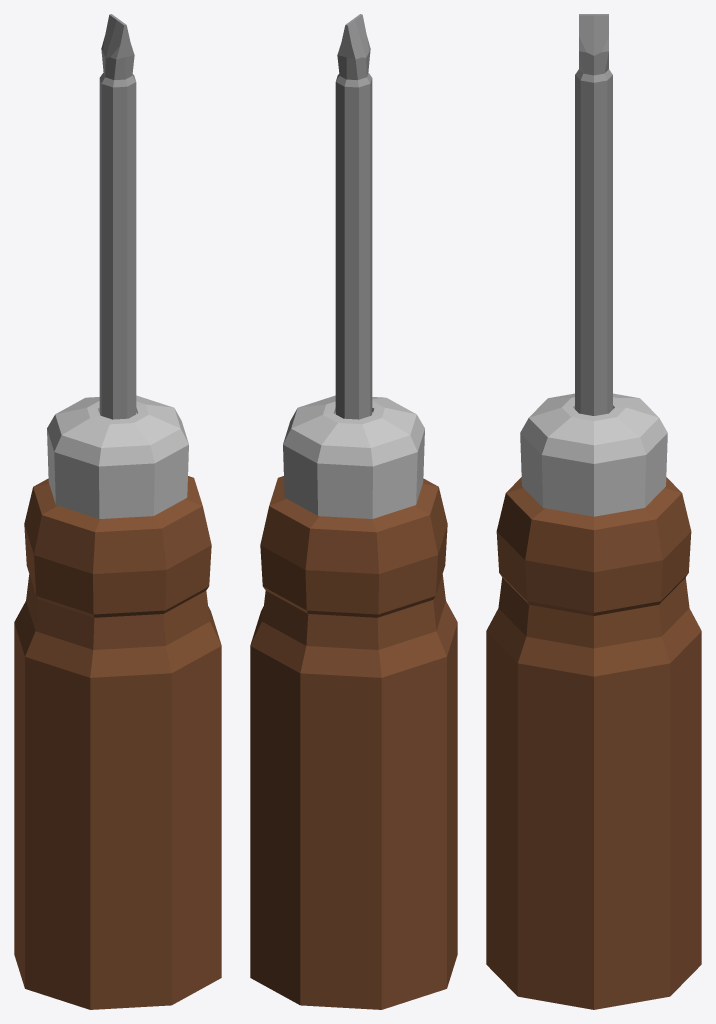
Rendered from screwdriver02.gltf.
The picture shows the model from 3 angles, left to right: view 1: azimuth 30°, elevation 25°; view 2: azimuth 150°, elevation 25°; view 3: azimuth 270°, elevation 25°; orthographic projection.
Parts seen in each view (by area): view 1: Cylinder; view 2: Cylinder; view 3: Cylinder.
Boxes of the visible parts, x1=… form: Cylinder: x1=14, y1=14, x2=221, y2=1009; Cylinder: x1=250, y1=14, x2=457, y2=1009; Cylinder: x1=486, y1=14, x2=701, y2=1009.
Size of the model in its own units: 0.0246 by 0.1194 by 0.0246.
Materials: 1 (1 with a texture image).
